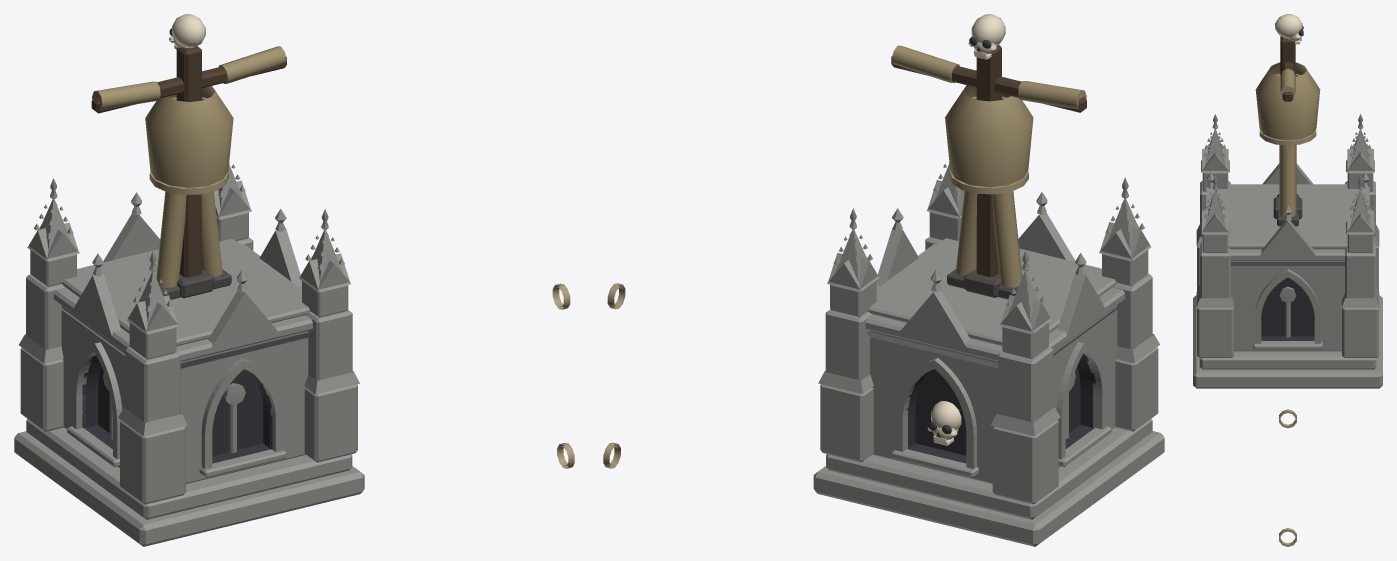
File: tower_effigy_1.glb
3 views of the same model, side by side, from view 1: azimuth 30°, elevation 25°; view 2: azimuth 150°, elevation 25°; view 3: azimuth 270°, elevation 25° (orthographic). The views are drawn at different scales.
Visible parts, largest first — view 1: tower; view 2: tower; view 3: tower.
Part boxes in pixels (bbox=[...]): tower: bbox=[14, 14, 574, 546]; tower: bbox=[603, 14, 1164, 546]; tower: bbox=[1193, 14, 1382, 546].
Size of the model in its own units: 3.71 by 3.92 by 1.7.
